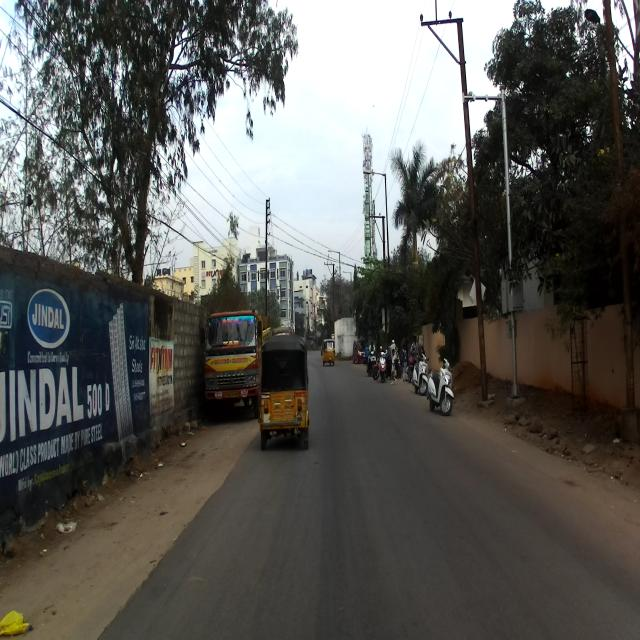auto ahead at: (260, 340, 308, 448)
motorcycle ahead at: (425, 354, 458, 419)
truck ahead at: (199, 309, 258, 412)
